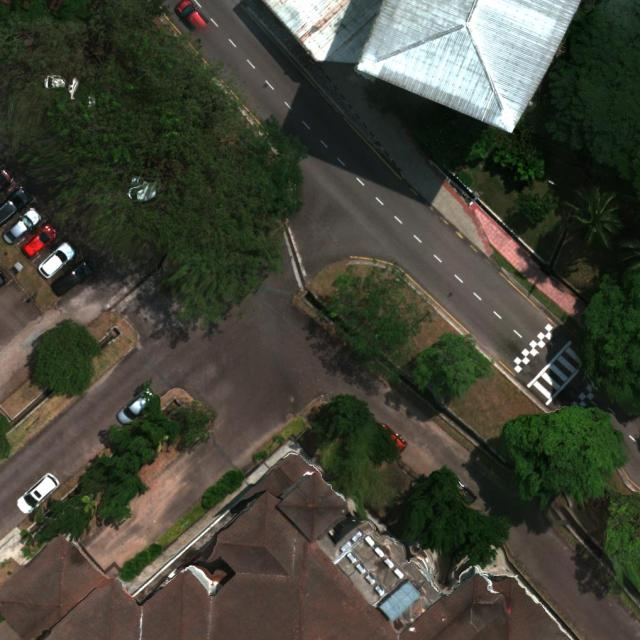Tree: (19, 91, 249, 272), (0, 0, 220, 91), (545, 0, 640, 207), (146, 217, 287, 330), (500, 404, 630, 512), (400, 463, 510, 566), (316, 262, 432, 358), (107, 377, 217, 467), (229, 113, 311, 221), (583, 272, 640, 418), (409, 332, 490, 407), (315, 393, 399, 463), (31, 318, 104, 398), (76, 449, 146, 529), (467, 124, 548, 186), (560, 186, 624, 252), (604, 490, 640, 592), (34, 491, 97, 548), (516, 191, 562, 226), (616, 227, 640, 273)
